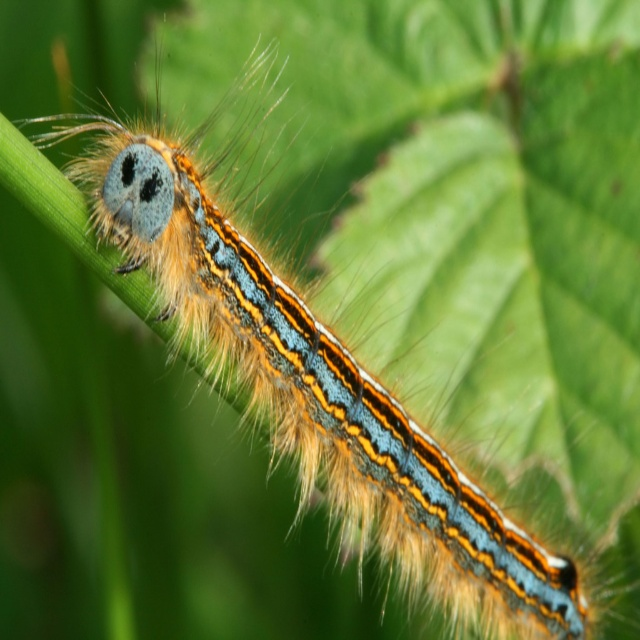Caterpillar: (10, 6, 640, 639)
